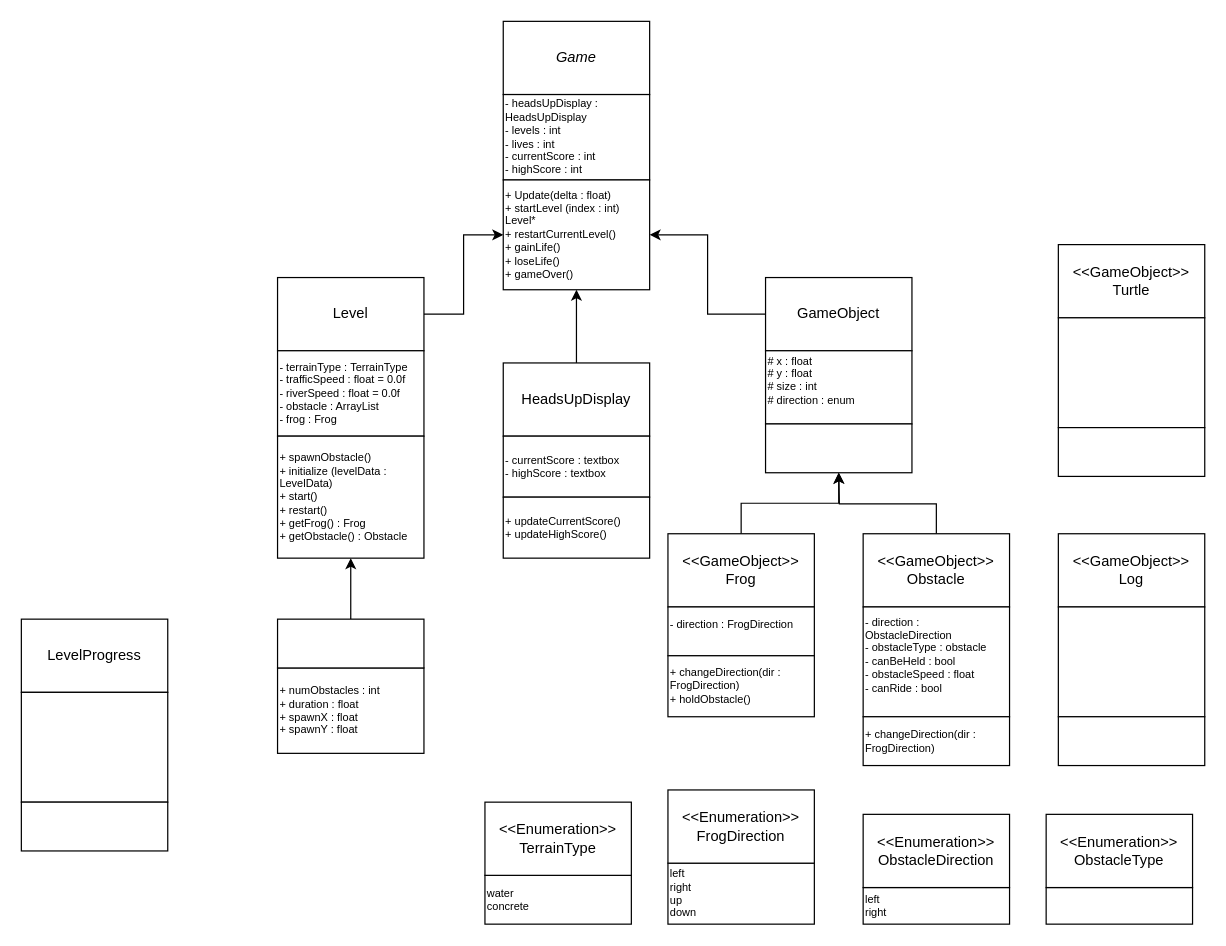
The diagram is 1226 pixels wide and 946 high, and some of its shapes have lost their labels. The box of each missing label's shape, as (x1, y1, x2, y2) in pixels:
+ spawn(): (764, 423, 912, 473)
LevelData: (276, 618, 424, 668)
